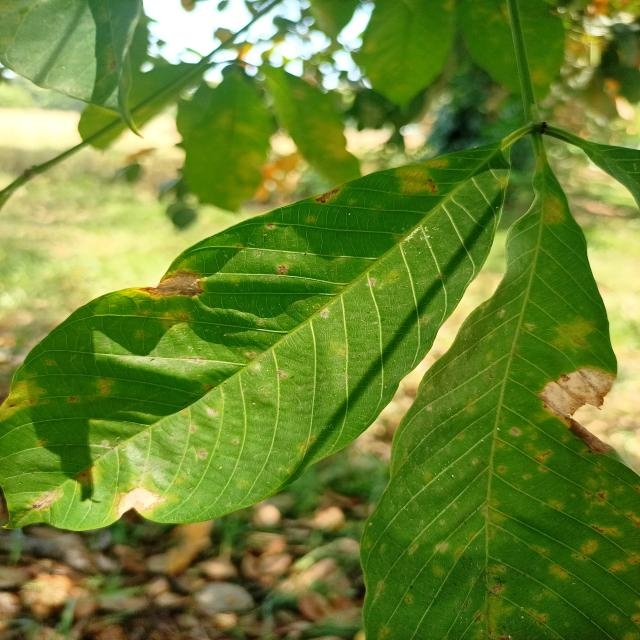Leaf-Blight: (535, 366, 617, 454), (138, 270, 204, 297), (117, 486, 160, 518), (33, 492, 56, 509)
